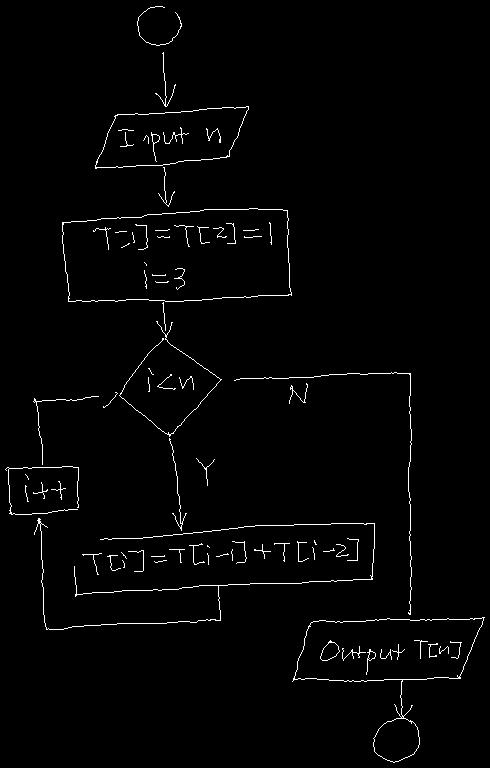arrow: (234, 372, 411, 614), (34, 518, 220, 629), (33, 392, 117, 464), (169, 438, 186, 530), (155, 52, 175, 106), (394, 679, 412, 718), (158, 167, 174, 206), (156, 302, 172, 337)
connection: (373, 718, 419, 762), (137, 6, 181, 45)
data: (292, 617, 484, 681), (95, 106, 248, 168)
decision: (119, 338, 221, 436)
process: (74, 523, 374, 596), (62, 208, 291, 301), (5, 466, 78, 514)
text: (93, 222, 271, 289), (82, 538, 358, 574), (320, 640, 461, 674), (118, 127, 220, 161), (25, 474, 65, 501), (148, 368, 193, 391), (196, 458, 214, 485), (289, 383, 307, 403)
